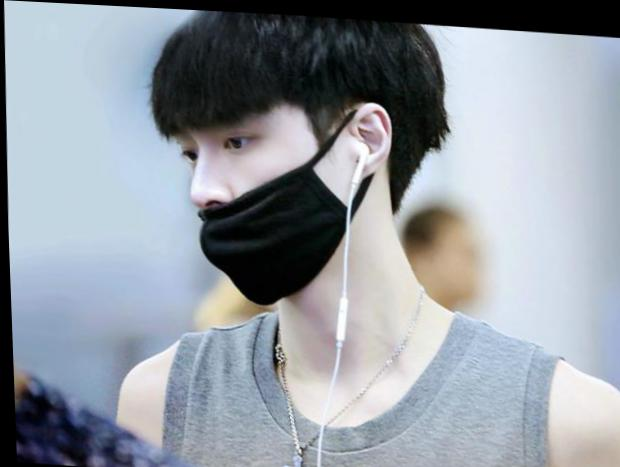WRONG: (172, 86, 350, 310)
